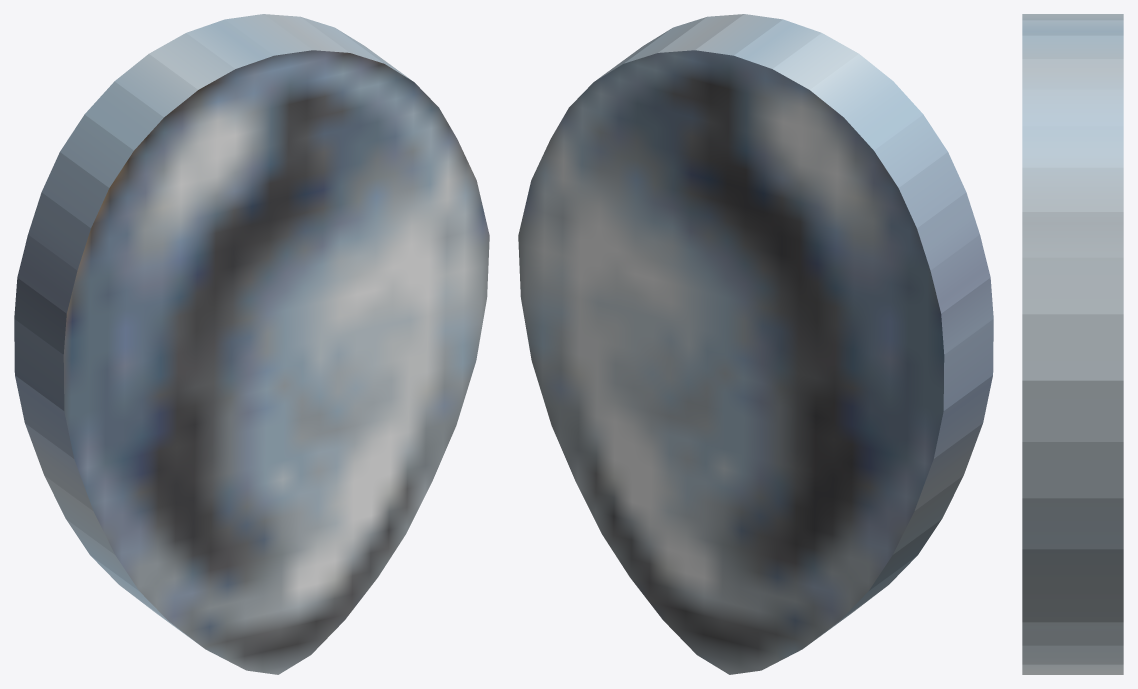
File: Rarity_Common.glb
3 views of the same model, side by side, from view 1: azimuth 30°, elevation 25°; view 2: azimuth 150°, elevation 25°; view 3: azimuth 270°, elevation 25° (orthographic). The views are drawn at different scales.
Visible parts, largest first — view 1: Circle; view 2: Circle; view 3: Circle.
Boxes of the visible parts, bbox=[...] form: Circle: bbox=[14, 14, 489, 674]; Circle: bbox=[518, 14, 993, 674]; Circle: bbox=[1022, 14, 1123, 674].
Bounding box in the file's own units: 0.4969 × 0.6914 × 0.1.
Materials: 1 (1 with a texture image).
